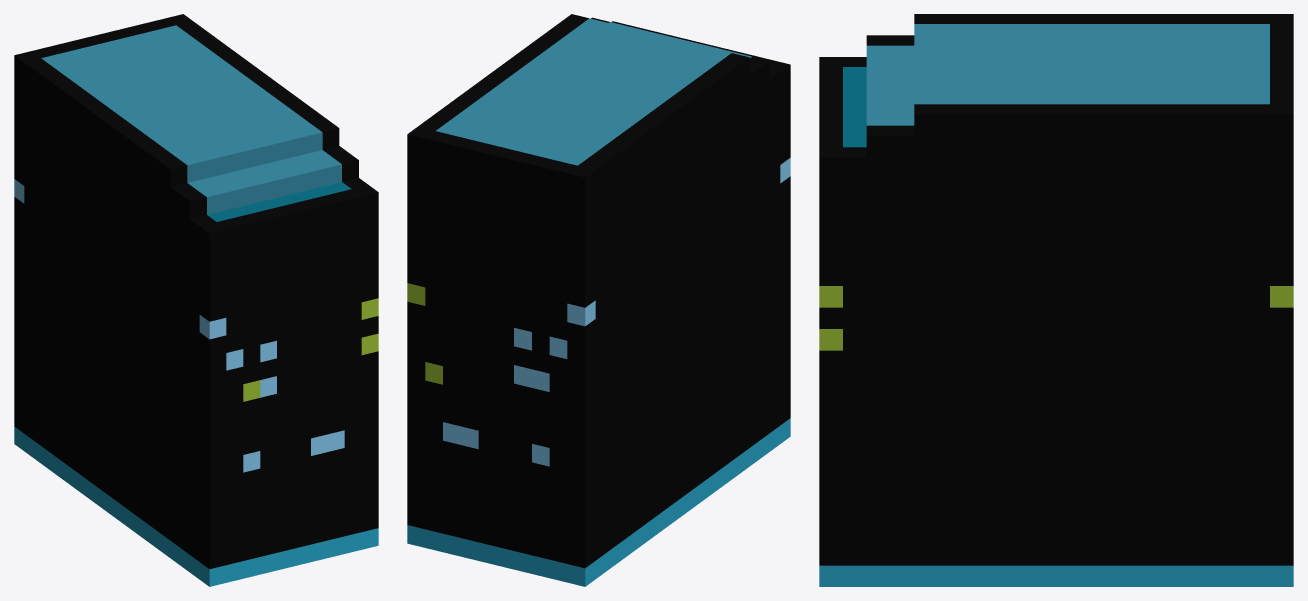
Rendered from base-dispenser.obj.
3 views of the same model, side by side, from view 1: azimuth 30°, elevation 25°; view 2: azimuth 150°, elevation 25°; view 3: azimuth 270°, elevation 25° (orthographic). The views are drawn at different scales.
Size of the model in its own units: 1 by 2.2 by 2.
1 material, 1 textured.
